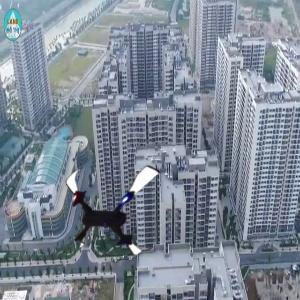drone: (57, 150, 174, 267)
